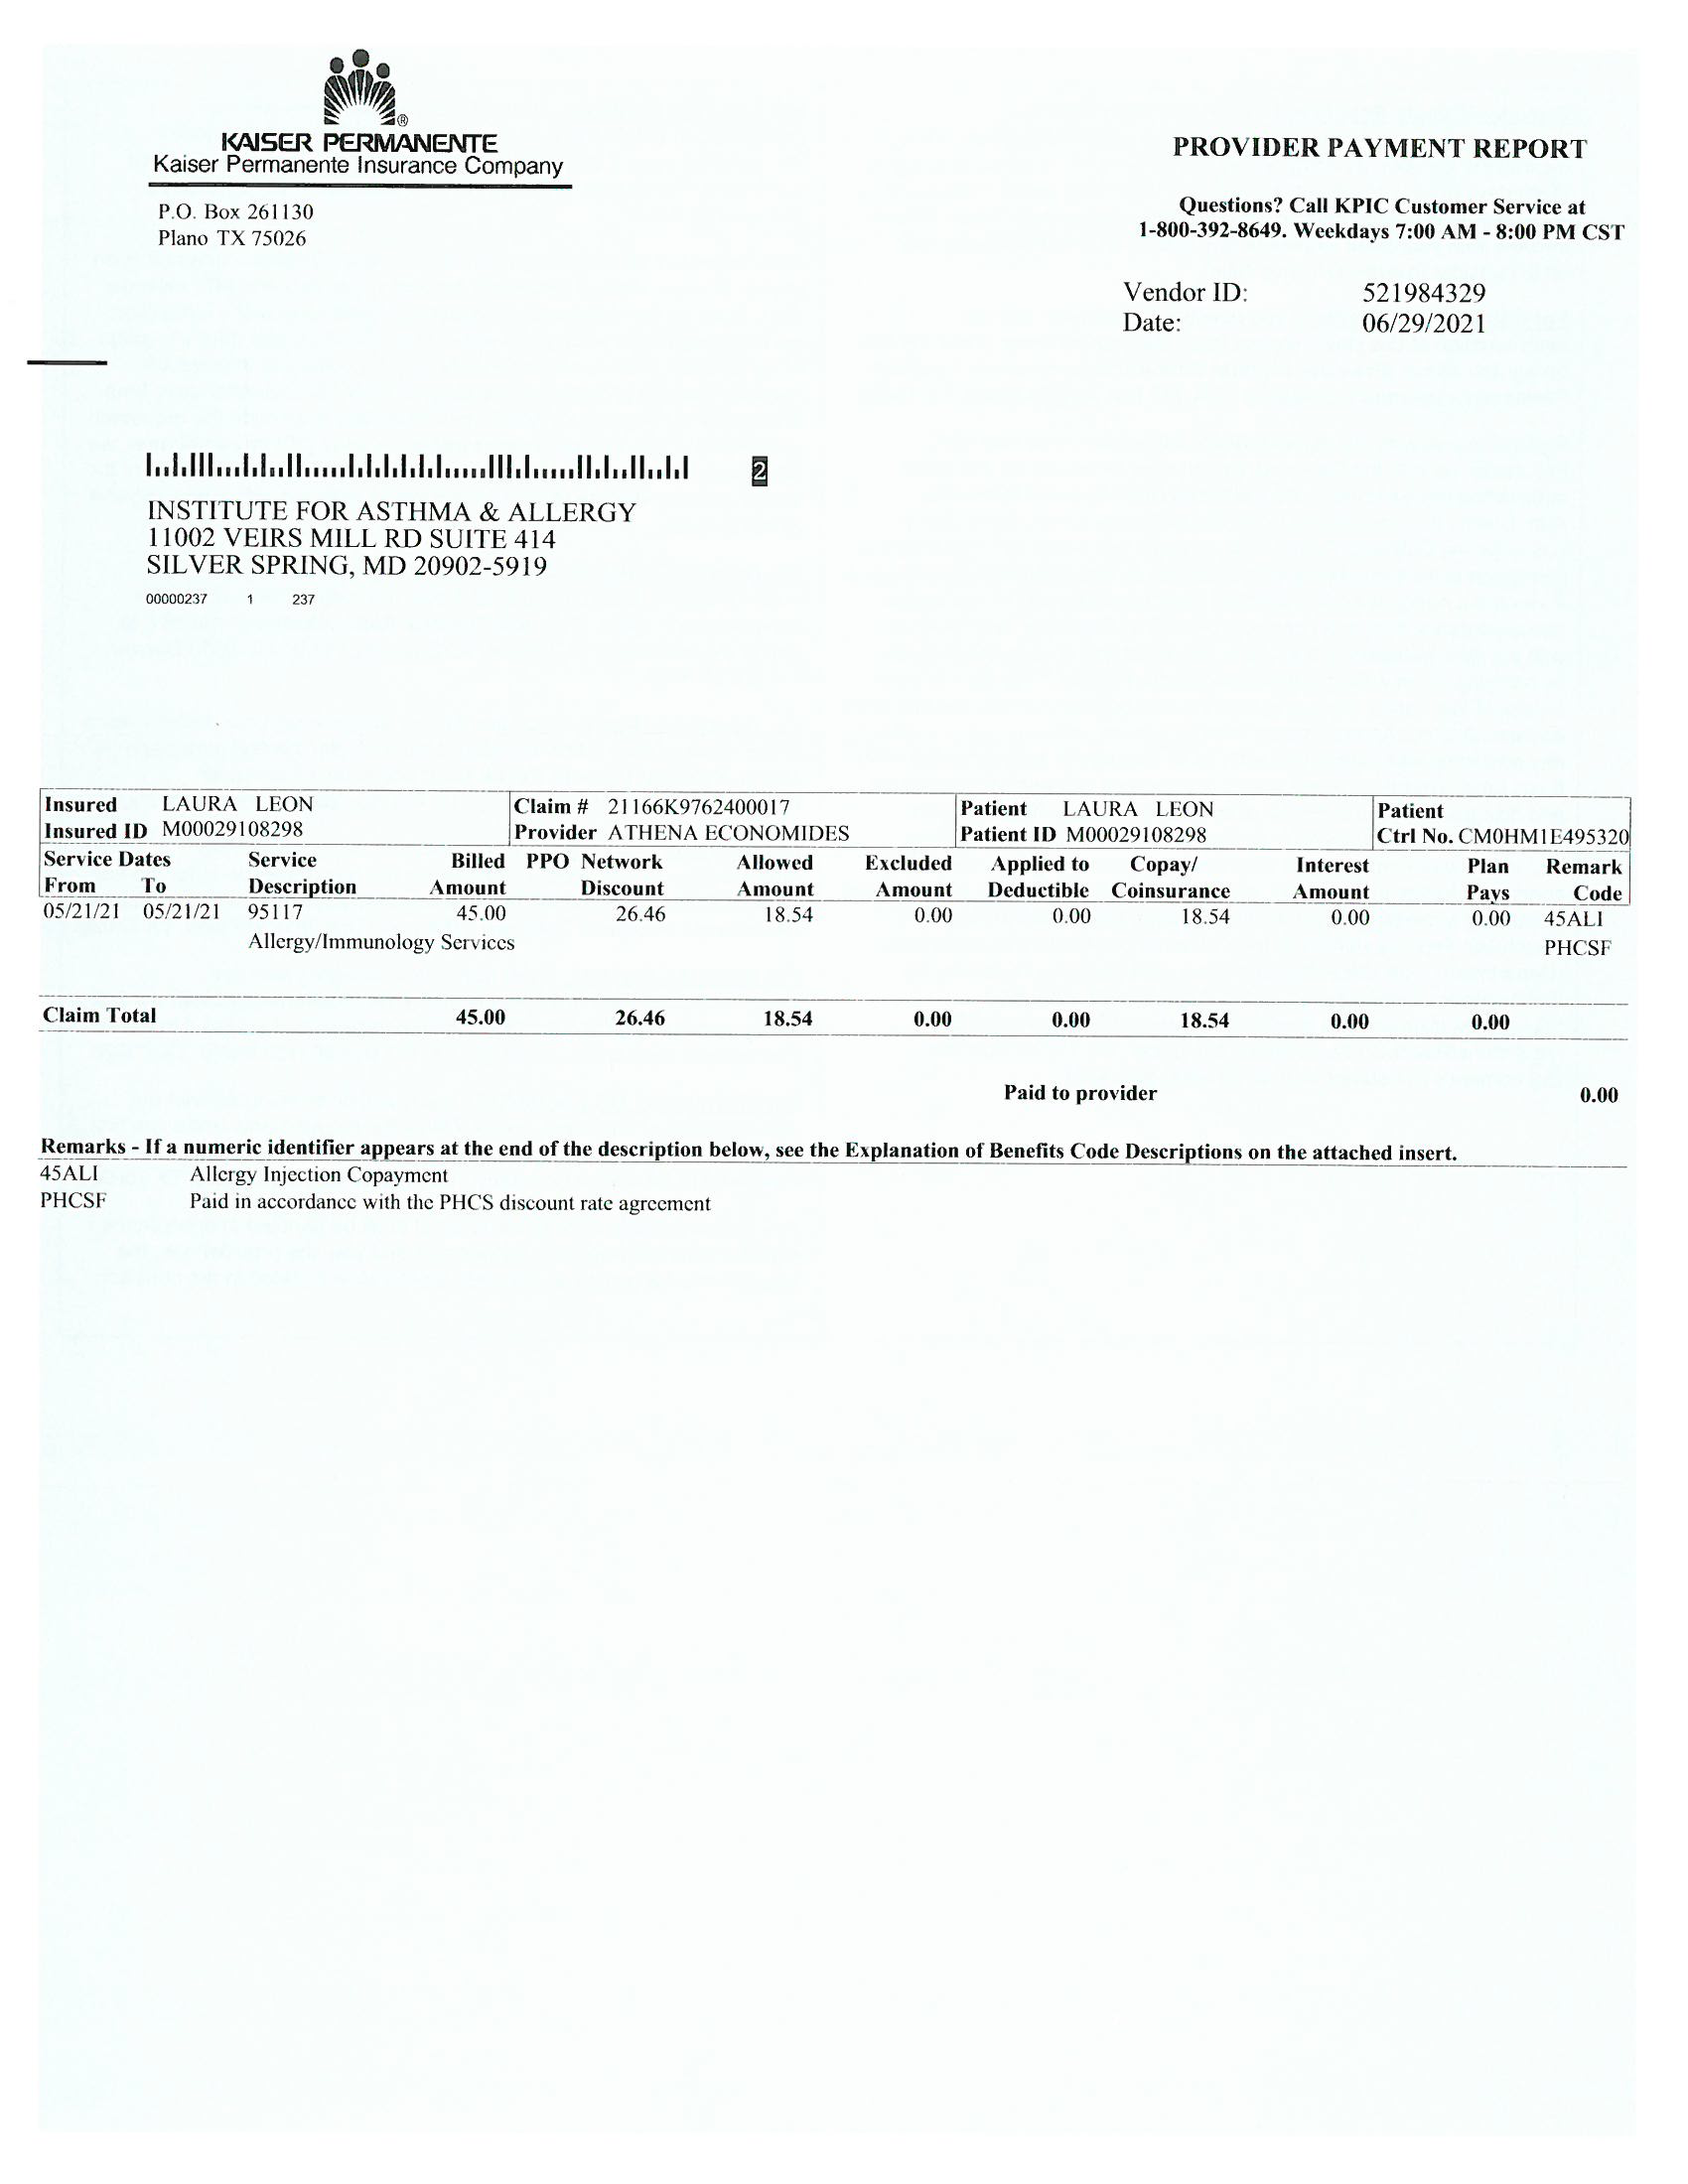data: (1103, 266, 1500, 374)
table: (21, 775, 1642, 1057)
